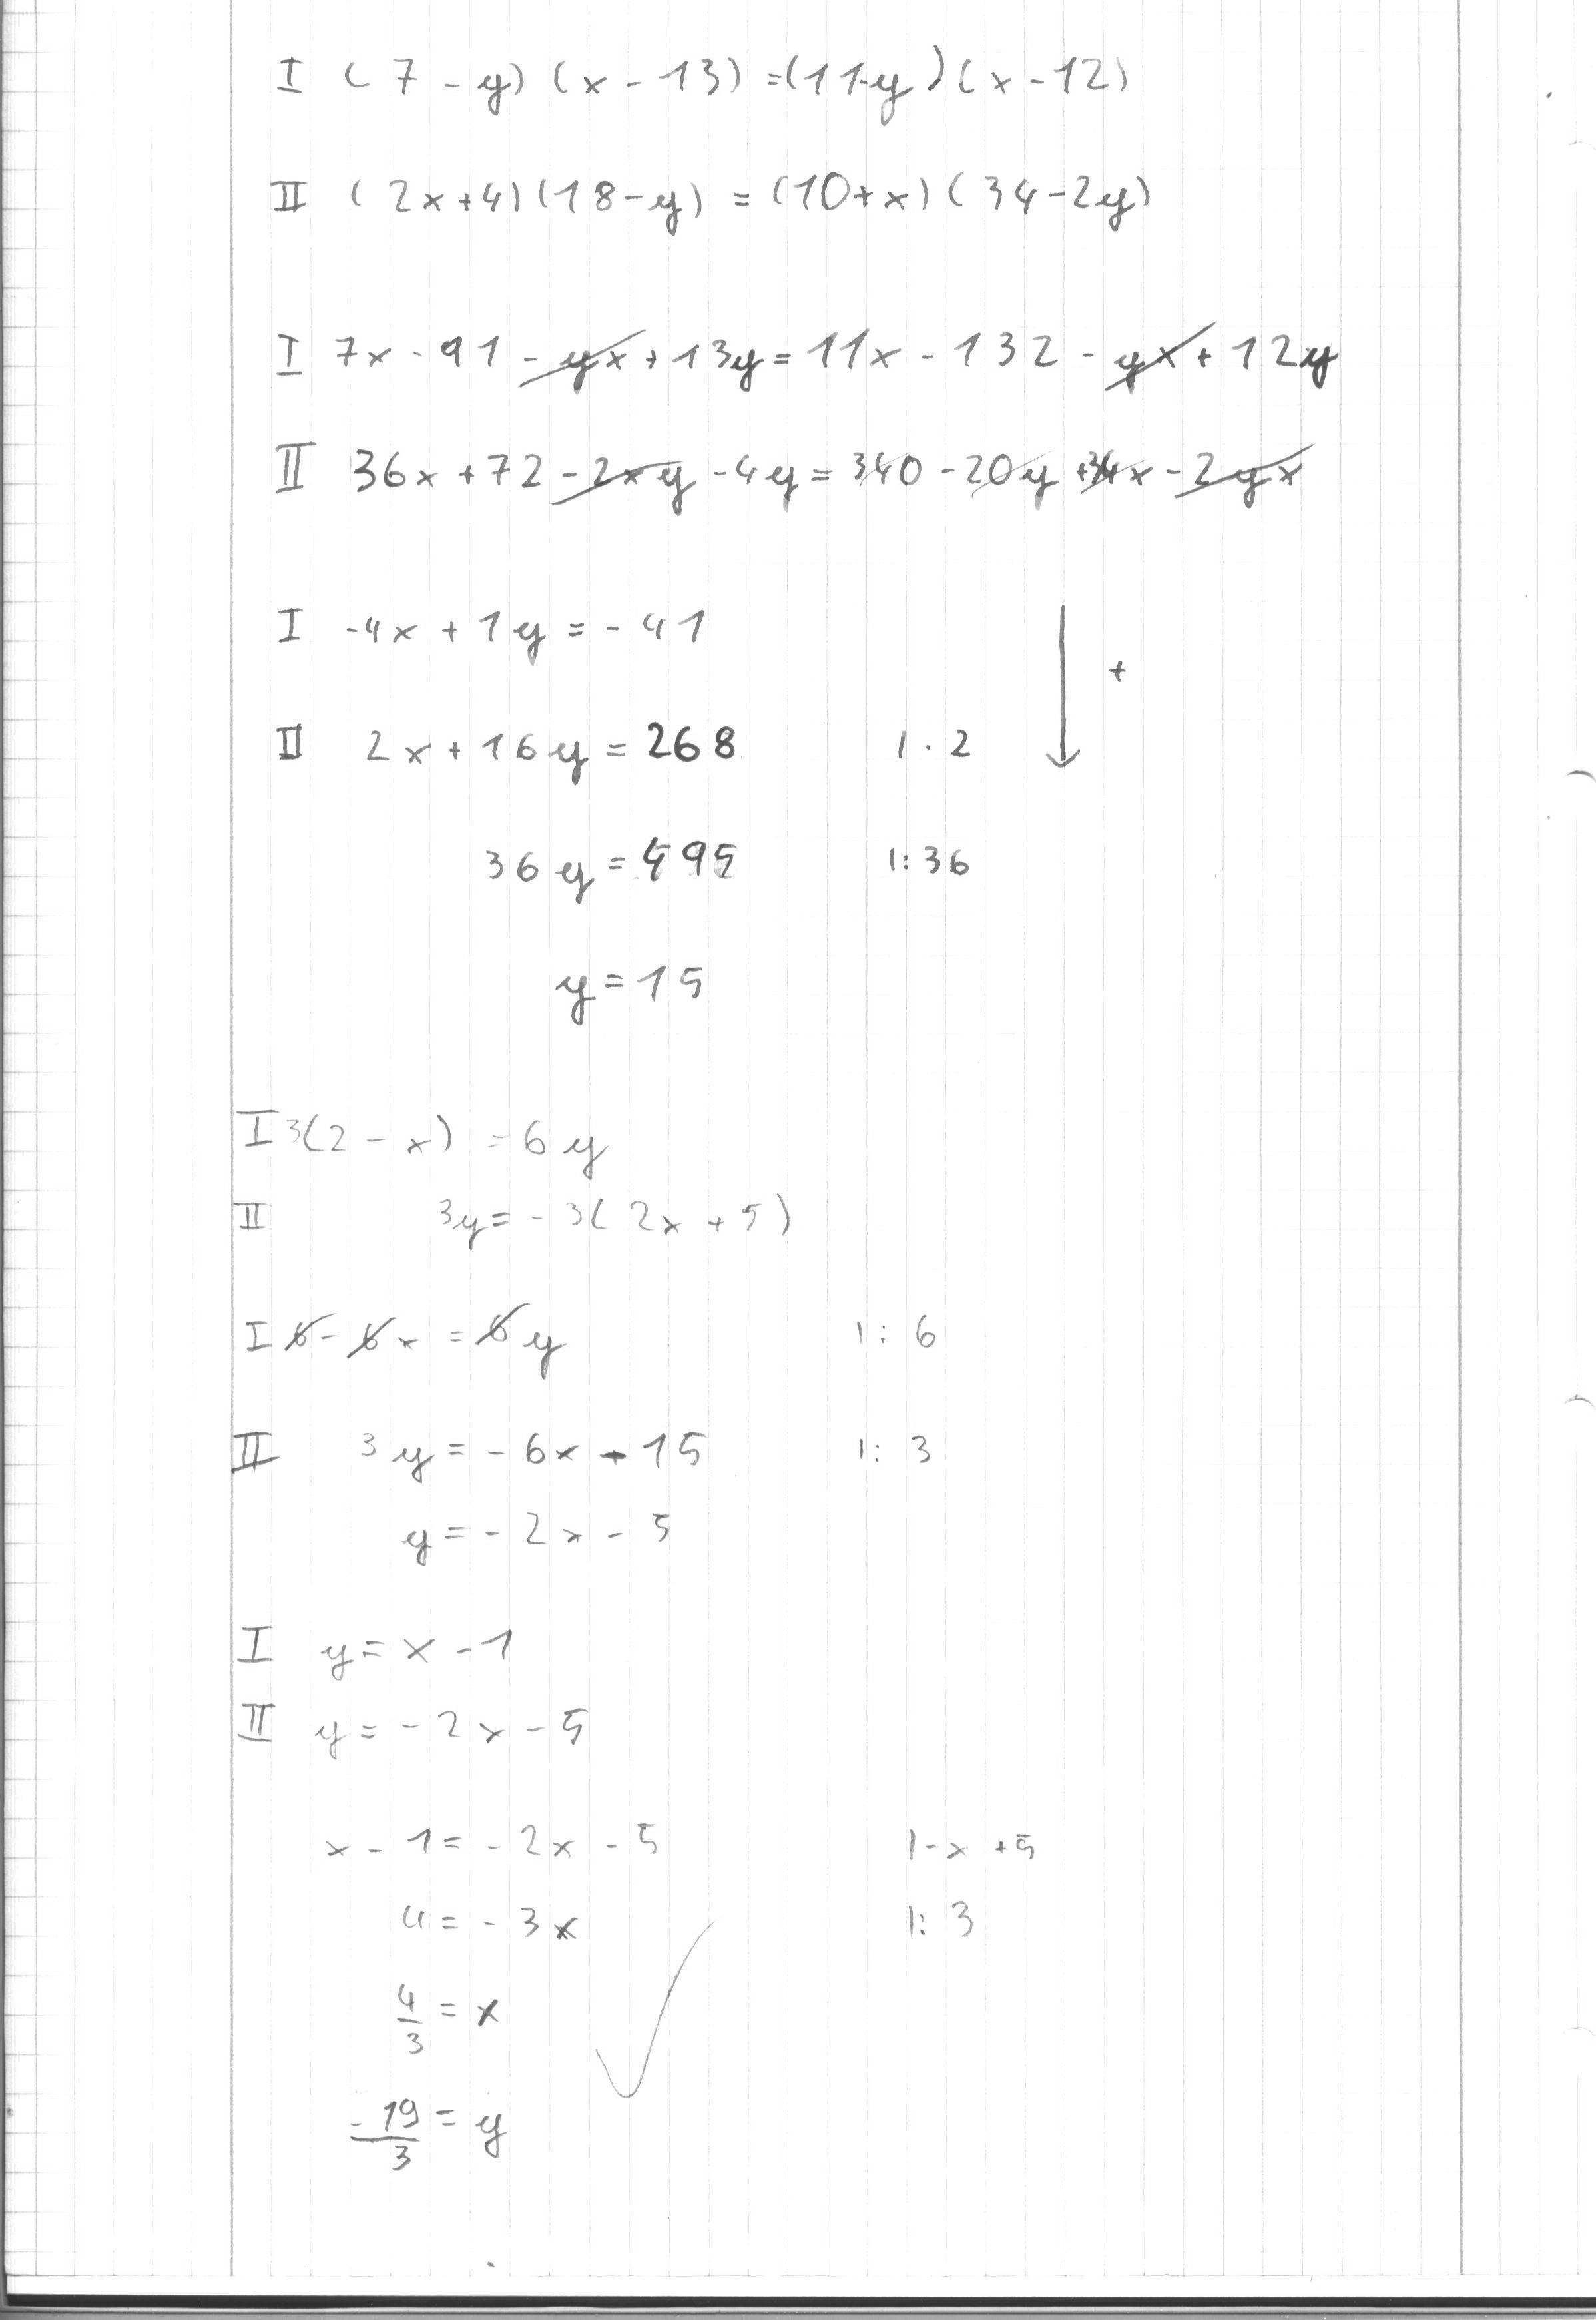word: (228, 290, 1364, 541), (245, 581, 758, 1050), (241, 14, 1158, 256), (205, 1279, 732, 1584), (299, 1799, 694, 2205), (203, 1083, 838, 1265), (852, 581, 1153, 917), (196, 1599, 623, 1789)
